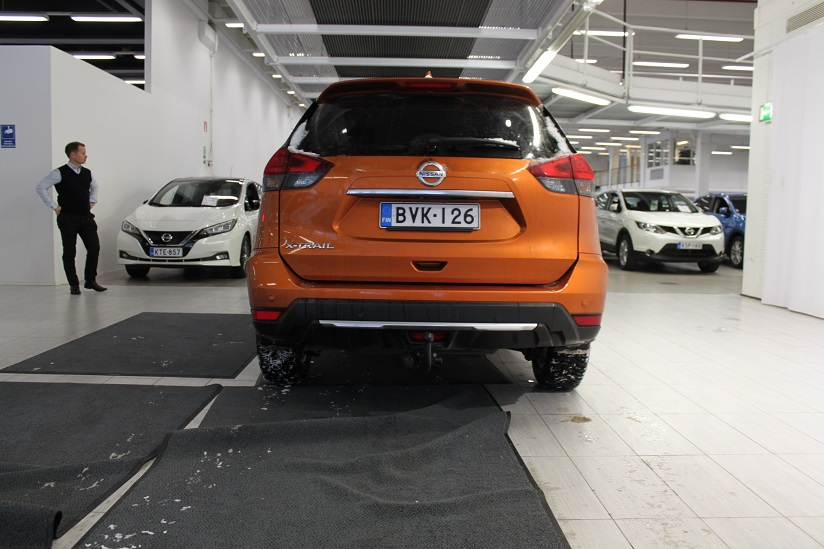license: (379, 195, 482, 231)
